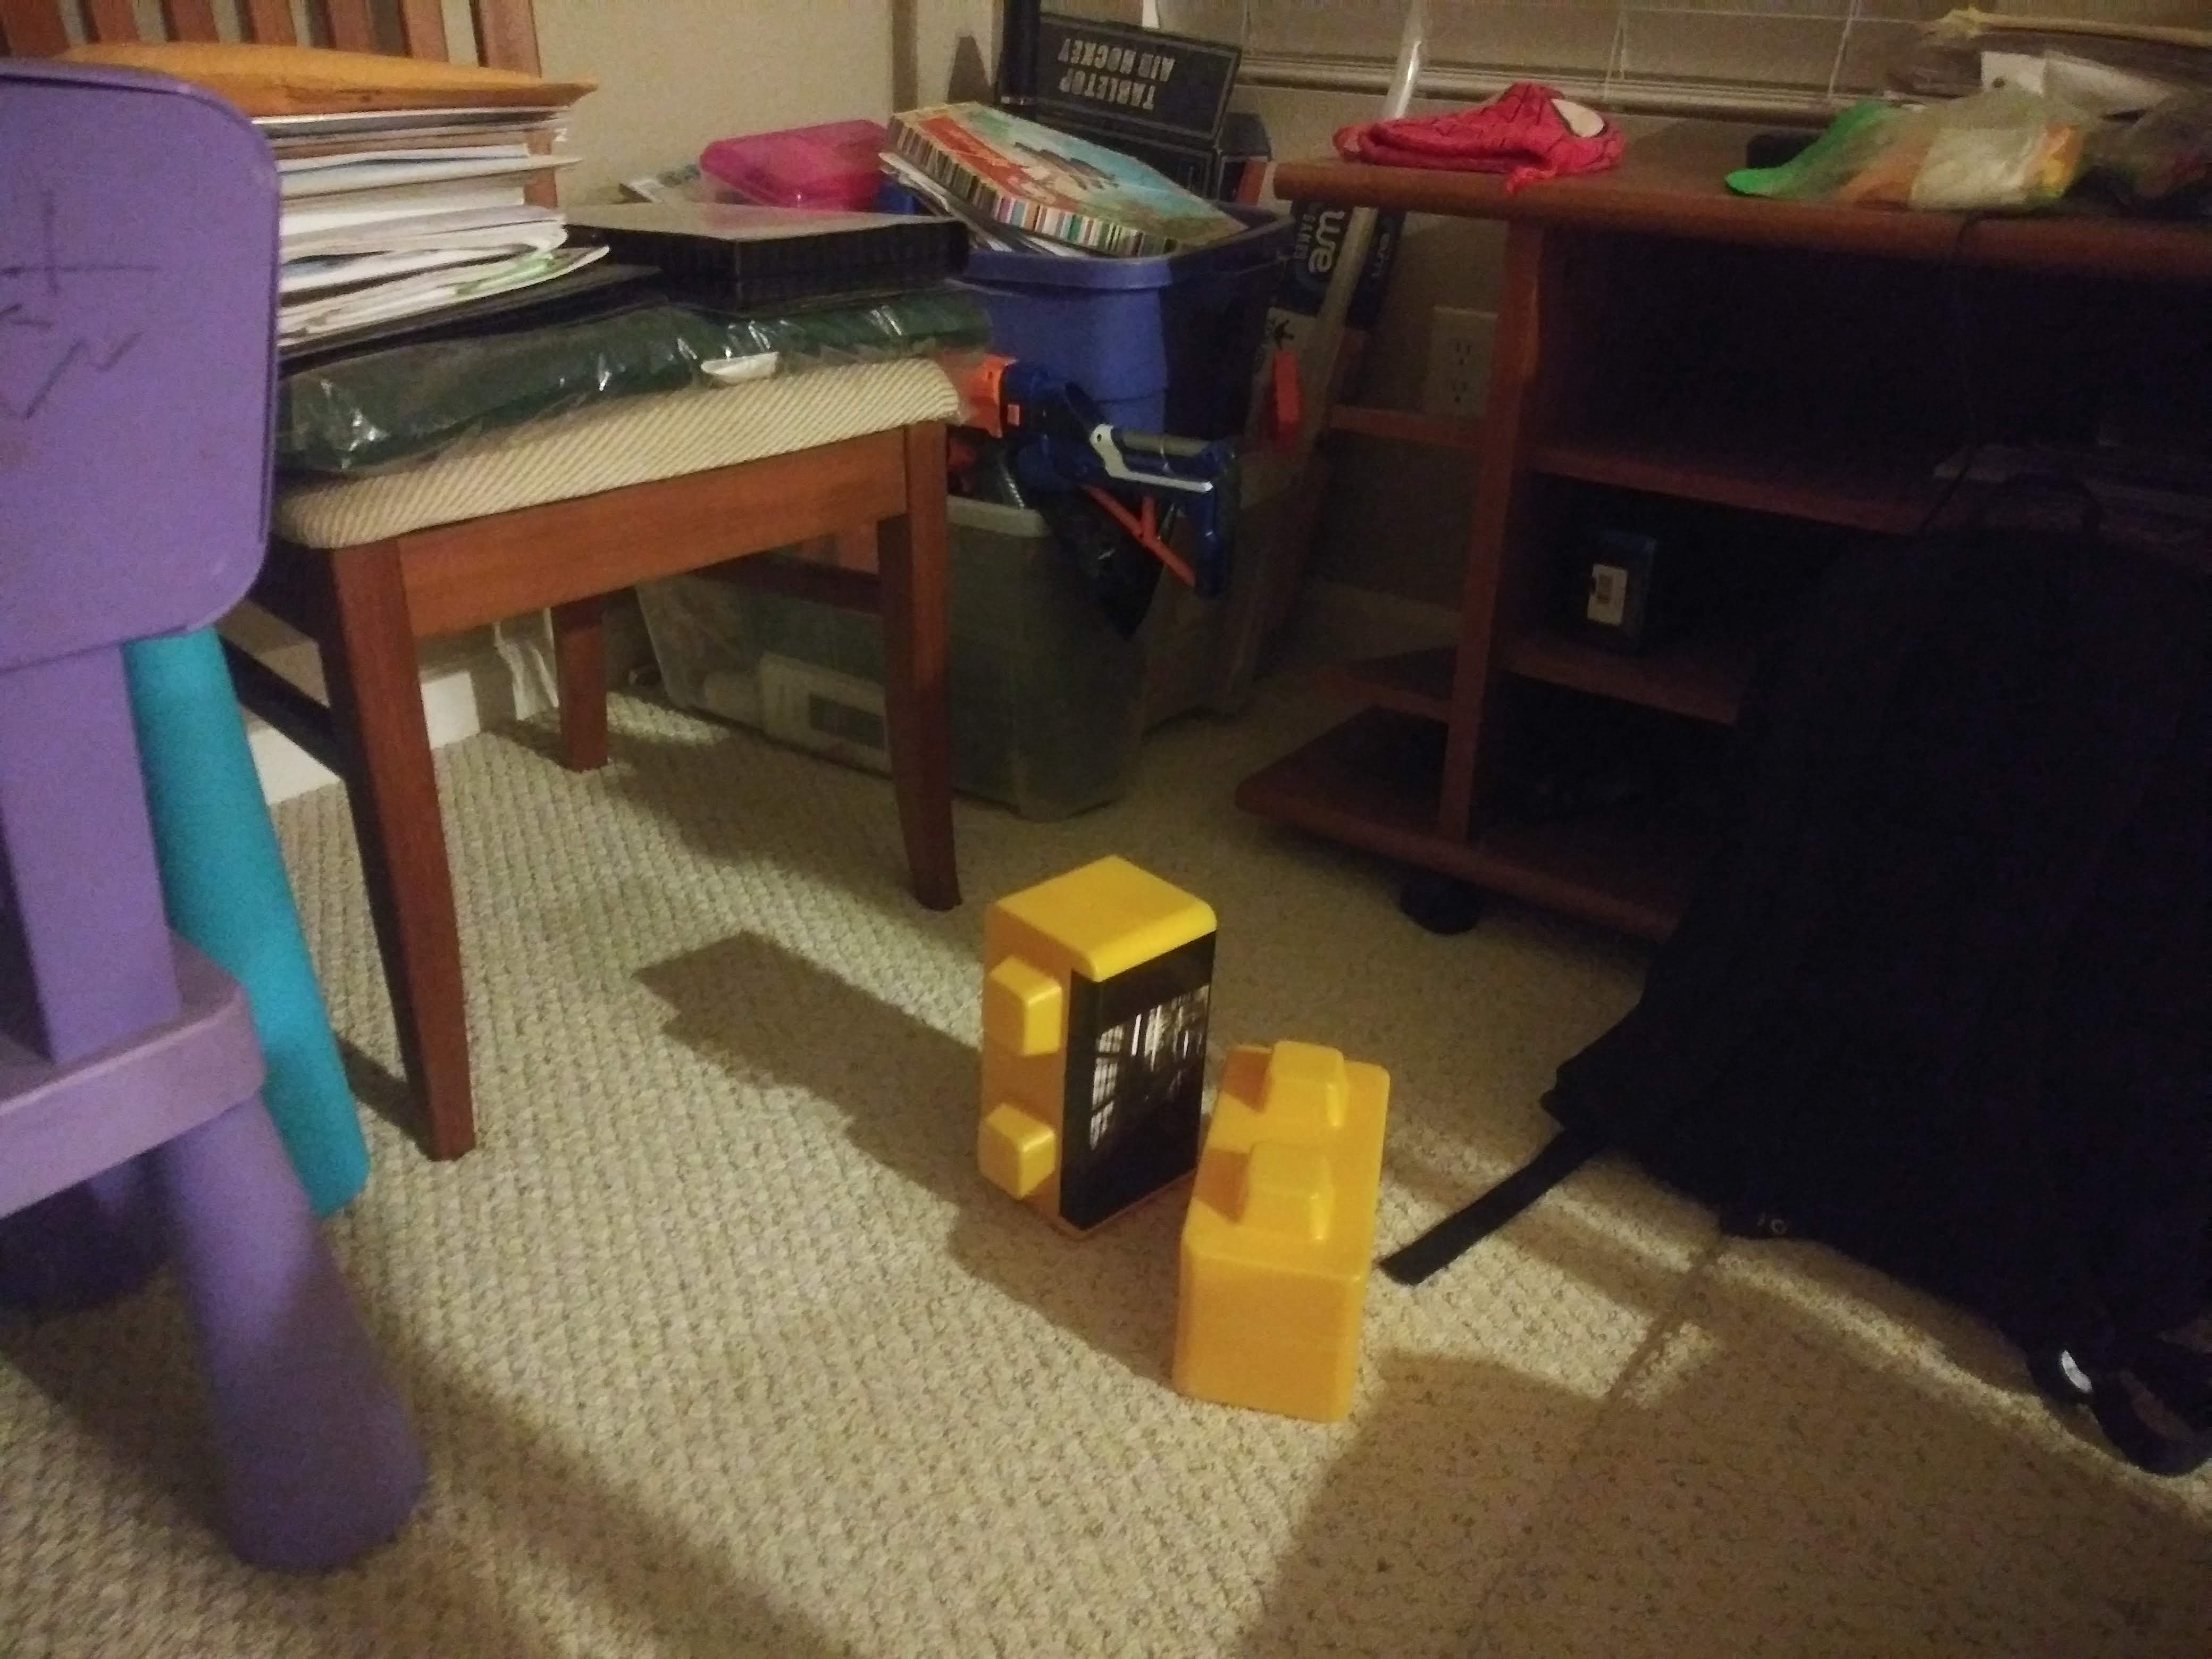skystone: (974, 901, 1211, 1215)
stone: (1198, 1040, 1374, 1408)
